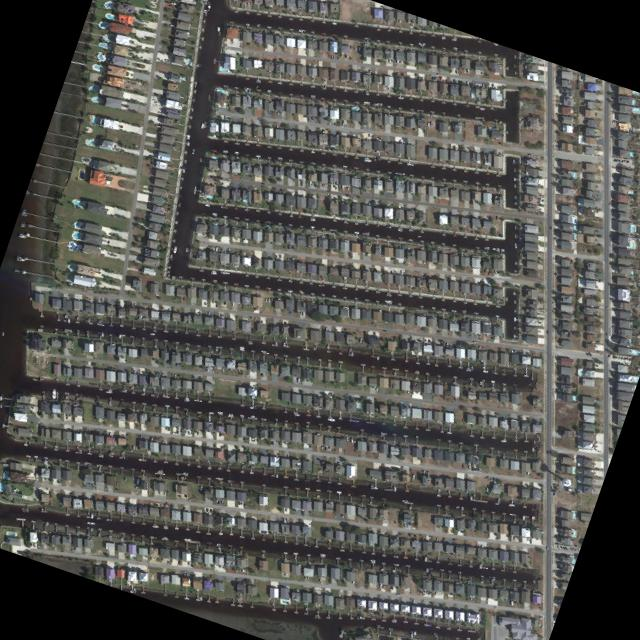ship: (170, 0, 178, 5), (52, 388, 56, 398), (173, 244, 177, 252), (492, 246, 500, 250), (17, 256, 25, 260), (385, 292, 392, 296), (200, 121, 204, 128), (136, 477, 140, 484), (191, 147, 195, 153), (103, 171, 109, 175), (327, 417, 335, 420), (364, 158, 372, 161), (417, 41, 425, 44), (199, 484, 203, 490), (207, 1, 210, 8), (297, 376, 300, 383), (155, 390, 158, 397), (19, 234, 26, 237), (210, 271, 217, 274), (152, 524, 159, 527), (184, 537, 191, 540), (314, 615, 321, 618), (243, 86, 248, 90), (353, 437, 357, 442), (321, 443, 325, 448), (384, 299, 393, 301), (310, 217, 316, 220), (156, 124, 162, 127), (158, 111, 164, 114), (217, 25, 220, 31), (359, 336, 362, 342), (309, 179, 312, 185), (430, 120, 433, 126), (351, 437, 354, 443), (451, 37, 457, 40), (217, 410, 223, 413), (21, 212, 27, 215), (149, 331, 155, 334), (91, 512, 94, 518), (86, 521, 95, 523), (391, 619, 397, 622), (320, 552, 326, 555), (206, 366, 210, 370), (484, 245, 489, 248), (165, 58, 170, 61), (501, 438, 506, 441), (375, 406, 378, 411), (342, 184, 345, 189), (325, 326, 328, 331), (407, 140, 410, 145), (373, 102, 378, 105), (223, 148, 228, 151), (35, 472, 38, 477), (109, 431, 112, 436), (178, 425, 181, 430), (352, 579, 355, 584), (215, 345, 218, 350), (20, 223, 25, 226), (101, 330, 104, 335), (67, 317, 70, 322), (163, 525, 168, 528), (163, 535, 168, 538), (424, 556, 427, 561), (479, 563, 482, 568), (522, 514, 525, 519), (413, 630, 416, 635), (370, 558, 375, 561), (294, 413, 301, 415), (363, 100, 370, 102), (105, 390, 112, 392), (204, 8, 210, 10), (462, 308, 466, 311), (423, 259, 426, 263), (446, 342, 449, 346), (358, 46, 361, 50), (255, 85, 259, 88), (256, 79, 260, 82), (233, 150, 239, 152), (346, 436, 349, 440), (494, 42, 498, 45), (401, 72, 404, 76), (23, 509, 29, 511), (64, 328, 67, 332), (402, 499, 408, 501), (325, 446, 328, 450), (184, 398, 190, 400), (199, 311, 202, 315), (98, 454, 104, 456), (283, 518, 286, 522), (240, 567, 243, 571), (195, 561, 198, 565), (398, 228, 403, 230), (292, 256, 294, 261), (500, 248, 505, 250), (154, 146, 159, 148), (466, 368, 471, 370), (376, 386, 378, 391), (303, 310, 305, 315), (415, 317, 417, 322), (330, 312, 332, 317), (377, 102, 382, 104), (528, 153, 533, 155), (480, 107, 485, 109), (452, 46, 457, 48), (277, 156, 282, 158), (441, 37, 446, 39), (261, 349, 266, 351), (46, 520, 48, 525), (80, 392, 82, 397), (394, 485, 396, 490), (276, 472, 278, 477), (228, 412, 233, 414), (239, 345, 244, 347), (239, 347, 244, 349), (232, 301, 234, 306), (248, 341, 253, 343), (119, 333, 121, 338), (183, 471, 188, 473), (216, 496, 218, 501), (215, 476, 220, 478), (133, 444, 135, 449), (79, 448, 81, 453), (380, 583, 382, 588), (132, 476, 135, 479), (556, 583, 560, 585), (527, 470, 529, 474), (401, 270, 403, 274), (417, 234, 421, 236), (215, 246, 217, 250), (471, 365, 473, 369), (480, 380, 482, 384), (486, 487, 488, 491), (377, 355, 379, 359), (351, 351, 353, 355), (268, 298, 270, 302), (265, 297, 267, 301), (276, 341, 278, 345), (267, 88, 271, 90), (381, 431, 383, 435), (52, 542, 54, 546), (365, 92, 369, 94), (283, 341, 285, 345), (163, 392, 165, 396), (371, 484, 373, 488), (342, 513, 344, 517), (251, 414, 255, 416), (240, 413, 244, 415), (208, 310, 210, 314), (98, 268, 102, 270), (462, 505, 464, 509), (470, 495, 472, 499), (200, 596, 202, 600), (134, 588, 136, 592), (125, 476, 127, 480), (514, 536, 516, 540), (426, 567, 428, 571), (413, 599, 415, 603), (205, 563, 207, 567), (271, 297, 273, 300), (369, 133, 371, 136), (41, 508, 43, 511), (222, 367, 224, 370), (2, 331, 4, 334), (182, 296, 184, 299), (175, 362, 177, 365), (181, 296, 183, 299), (180, 299, 182, 302), (178, 309, 180, 312), (220, 477, 223, 479), (158, 469, 163, 470)
small-vehicle: (587, 351, 592, 355), (192, 494, 197, 498), (557, 545, 561, 549), (286, 244, 290, 248), (585, 351, 589, 355), (134, 484, 138, 488), (144, 19, 149, 22), (142, 23, 147, 26), (153, 97, 158, 100), (382, 328, 387, 331), (313, 259, 316, 264), (630, 127, 633, 132), (396, 592, 401, 595), (494, 269, 497, 273), (472, 340, 478, 342), (462, 463, 465, 467), (468, 464, 471, 468), (485, 475, 489, 478), (572, 546, 575, 550), (569, 546, 573, 549), (565, 545, 568, 549), (424, 272, 427, 276), (488, 270, 491, 274), (473, 466, 476, 470), (496, 269, 499, 273), (613, 354, 616, 358), (620, 356, 624, 359), (627, 357, 631, 360), (618, 158, 622, 161), (615, 158, 619, 161), (613, 157, 617, 160), (335, 185, 338, 189), (33, 542, 36, 546), (406, 522, 409, 526), (98, 290, 102, 293), (421, 590, 424, 594), (227, 177, 232, 179), (154, 100, 159, 102), (224, 299, 226, 304), (271, 439, 273, 444), (453, 78, 455, 83), (260, 181, 265, 183), (436, 72, 441, 74), (183, 570, 188, 572), (476, 467, 479, 470), (478, 467, 481, 470), (407, 389, 410, 392), (575, 547, 578, 550), (560, 545, 563, 548), (607, 353, 610, 356), (626, 159, 629, 162), (618, 355, 621, 358), (623, 356, 626, 359), (626, 356, 629, 359), (624, 158, 627, 161), (217, 500, 220, 503), (428, 591, 431, 594), (319, 578, 322, 581), (304, 576, 307, 579), (280, 253, 282, 257), (540, 310, 544, 312), (221, 247, 223, 251), (159, 107, 163, 109), (140, 50, 144, 52), (428, 338, 430, 342), (479, 344, 481, 348), (490, 476, 492, 480), (373, 331, 375, 335), (546, 545, 548, 549), (565, 256, 569, 258), (547, 329, 549, 333), (131, 302, 133, 306), (241, 370, 243, 374), (390, 269, 392, 273), (261, 371, 263, 375), (238, 370, 240, 374), (471, 466, 473, 470), (328, 444, 330, 448), (287, 454, 289, 458), (221, 445, 223, 449), (157, 358, 159, 362), (176, 429, 178, 433), (162, 439, 164, 443), (69, 412, 71, 416), (110, 365, 112, 369), (301, 181, 303, 185), (380, 123, 382, 127), (555, 459, 559, 461), (414, 533, 416, 537), (492, 83, 494, 87), (276, 123, 278, 127), (277, 111, 279, 115), (224, 115, 226, 119), (456, 69, 458, 73), (435, 75, 437, 79), (184, 506, 186, 510), (206, 507, 208, 511), (210, 508, 212, 512), (238, 500, 240, 504), (331, 54, 333, 58), (418, 75, 420, 79), (369, 69, 371, 73), (440, 75, 442, 79), (133, 369, 135, 373), (30, 406, 34, 408), (104, 291, 108, 293), (101, 297, 103, 301), (94, 290, 98, 292), (436, 536, 438, 540), (166, 501, 168, 505), (159, 490, 161, 494), (88, 428, 90, 432), (186, 571, 188, 575), (383, 583, 385, 587), (426, 589, 428, 593), (221, 499, 223, 503), (276, 254, 278, 257), (287, 257, 289, 260), (228, 247, 230, 250), (424, 338, 426, 341), (562, 546, 565, 548), (454, 396, 456, 399), (484, 268, 486, 271), (570, 258, 572, 261), (597, 340, 600, 342), (616, 355, 618, 358), (621, 159, 624, 161), (342, 119, 344, 122), (409, 521, 411, 524), (312, 115, 314, 118), (342, 122, 344, 125), (334, 122, 336, 125), (281, 187, 283, 190), (347, 186, 349, 189), (341, 595, 343, 598), (30, 542, 32, 545), (161, 556, 163, 559), (432, 76, 434, 79), (333, 55, 335, 58), (185, 429, 187, 432), (188, 430, 190, 433), (174, 374, 176, 377), (162, 372, 164, 375), (131, 367, 133, 370), (404, 523, 406, 526), (167, 360, 169, 363), (220, 313, 222, 316), (150, 556, 152, 559), (167, 560, 169, 563), (168, 503, 170, 506), (163, 502, 165, 505), (164, 491, 166, 494), (183, 572, 185, 575), (210, 574, 212, 577), (435, 591, 437, 594), (470, 596, 472, 599), (307, 575, 309, 578), (285, 507, 287, 510), (28, 409, 33, 410), (514, 348, 515, 352), (338, 460, 339, 464), (108, 365, 109, 369), (312, 193, 313, 197), (606, 332, 608, 334), (443, 78, 444, 82), (307, 117, 309, 119), (296, 507, 297, 511), (338, 56, 340, 58), (198, 430, 199, 434), (116, 482, 118, 484), (140, 56, 143, 57), (216, 303, 217, 306), (432, 274, 433, 277), (343, 462, 344, 465), (331, 117, 332, 120), (254, 306, 255, 309), (75, 546, 76, 549), (424, 589, 425, 592), (241, 501, 242, 504)
